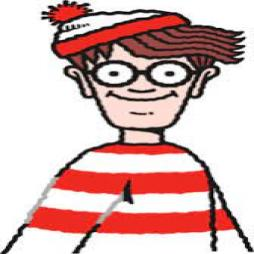wally: (4, 1, 253, 254)
